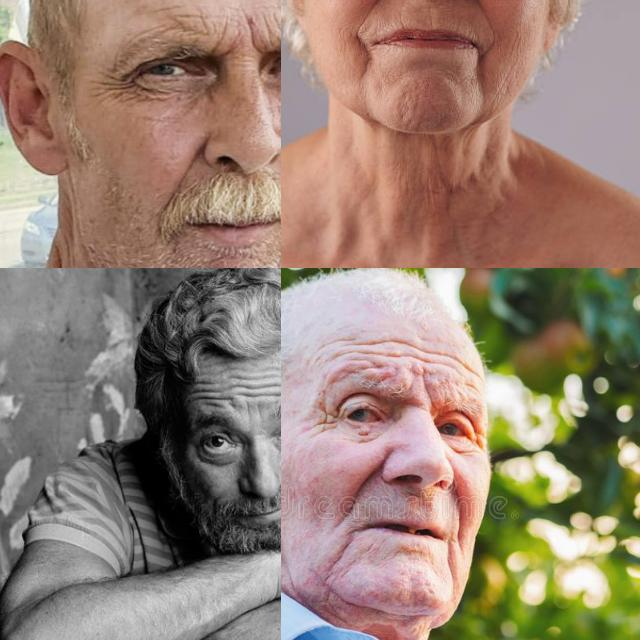chin: (328, 530, 354, 570), (398, 88, 417, 122), (443, 549, 459, 589)
crows_feet: (100, 64, 138, 100), (316, 405, 340, 433)
forehead: (380, 330, 416, 366), (176, 6, 218, 36), (341, 332, 377, 366), (454, 345, 480, 389), (235, 374, 281, 398), (420, 339, 450, 375), (194, 378, 226, 407), (255, 5, 281, 35)
frown_line: (240, 16, 262, 52), (417, 377, 437, 409), (214, 24, 232, 56), (243, 400, 265, 426)
gummy_smile: (178, 133, 204, 190), (354, 458, 380, 500), (358, 0, 389, 27), (454, 488, 468, 536), (460, 0, 492, 16)
sad_smile: (353, 36, 377, 74), (476, 35, 500, 61)
